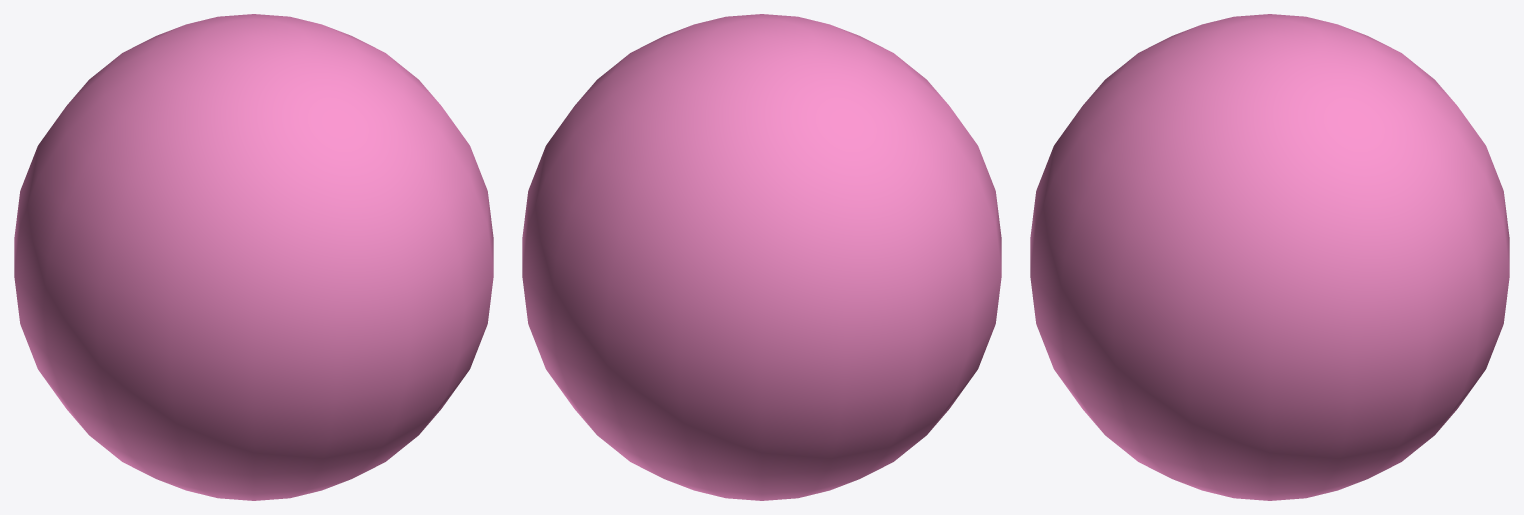
Rendered from prop-flower-01.glb.
3 views of the same model, side by side, from view 1: azimuth 30°, elevation 25°; view 2: azimuth 150°, elevation 25°; view 3: azimuth 270°, elevation 25° (orthographic).
Size of the model in its own units: 2 by 2 by 1.97.
